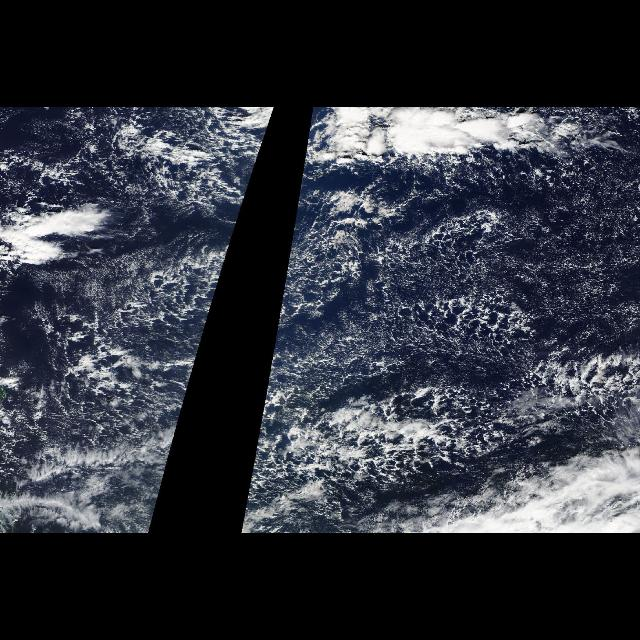Gravel: (248, 188, 640, 516), (1, 188, 248, 482)
Sugar: (364, 178, 638, 352)
